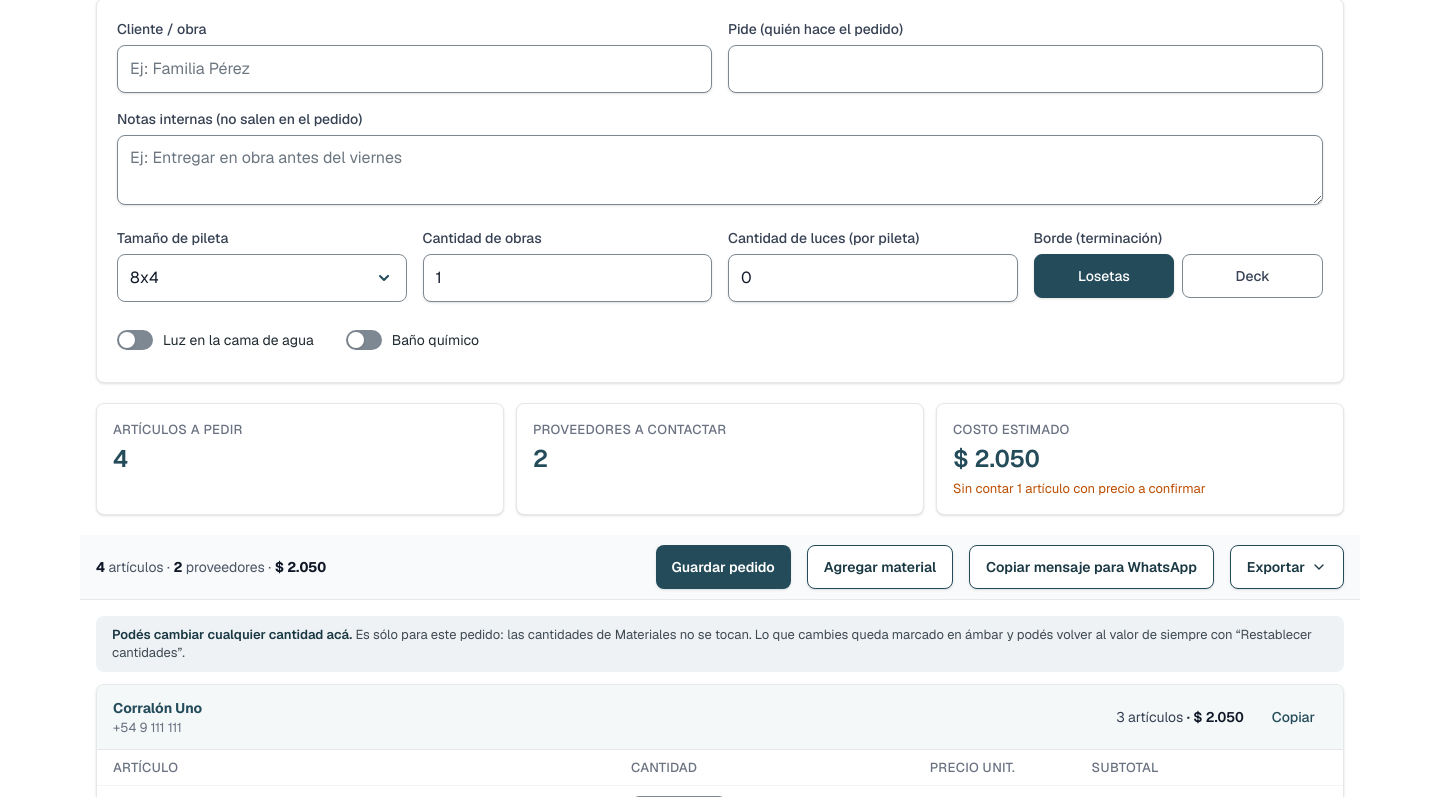
Test: Armar pedido › las luces suman una luminaria por cada luz
Expected: the element named "Resumen del pedido" is shown, [96,403,1344,515]
Expected: the text "Luminaria" is not shown
Replace the text in the number field labelled "Cantidad de luces (por pileta)" with "3" at (873, 278), box [728,254,1018,302]
(page scrolled)
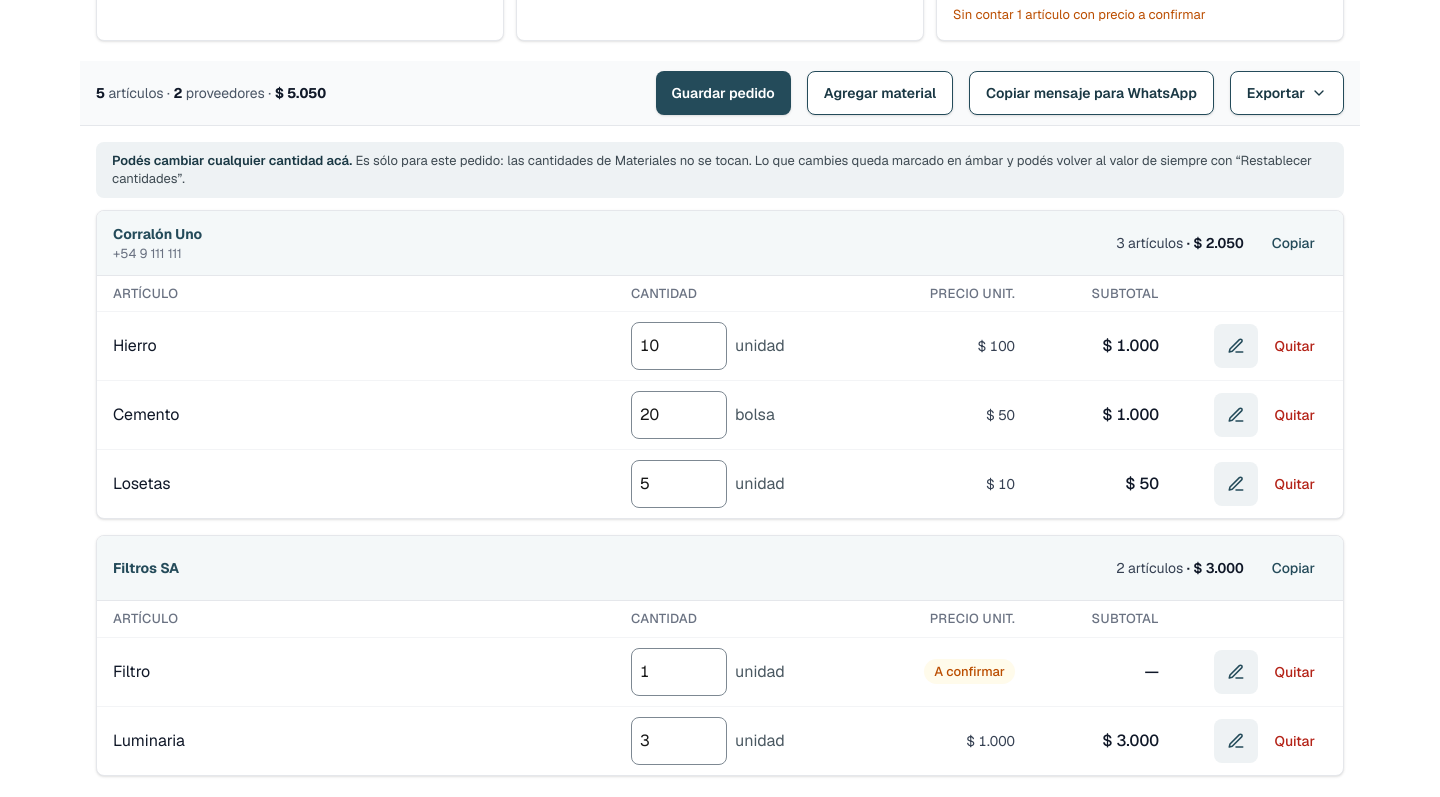
Now the number field named "Cantidad de Luminaria" holds "3", box [631,717,727,765]
